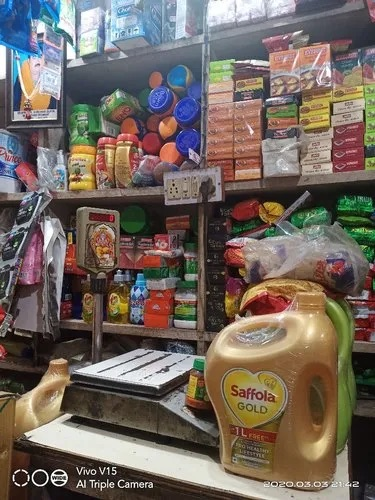saffola: (206, 293, 337, 489)
